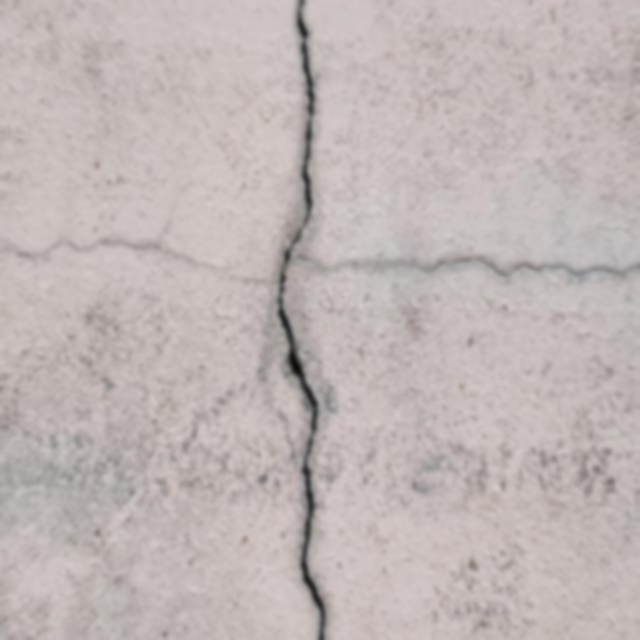SurfaceCrack: (227, 0, 372, 638)
